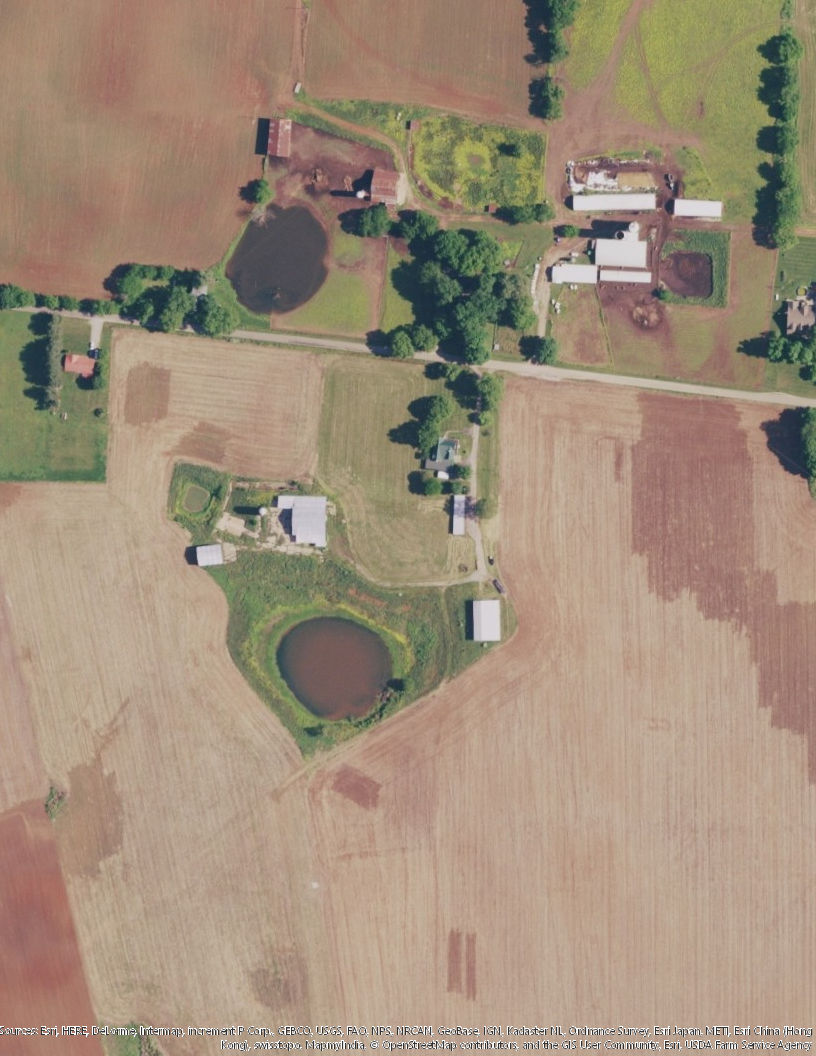cafo: (567, 185, 664, 216), (591, 234, 655, 270), (469, 594, 507, 646), (667, 195, 730, 222), (444, 489, 473, 538), (549, 263, 601, 285), (598, 269, 658, 284)
